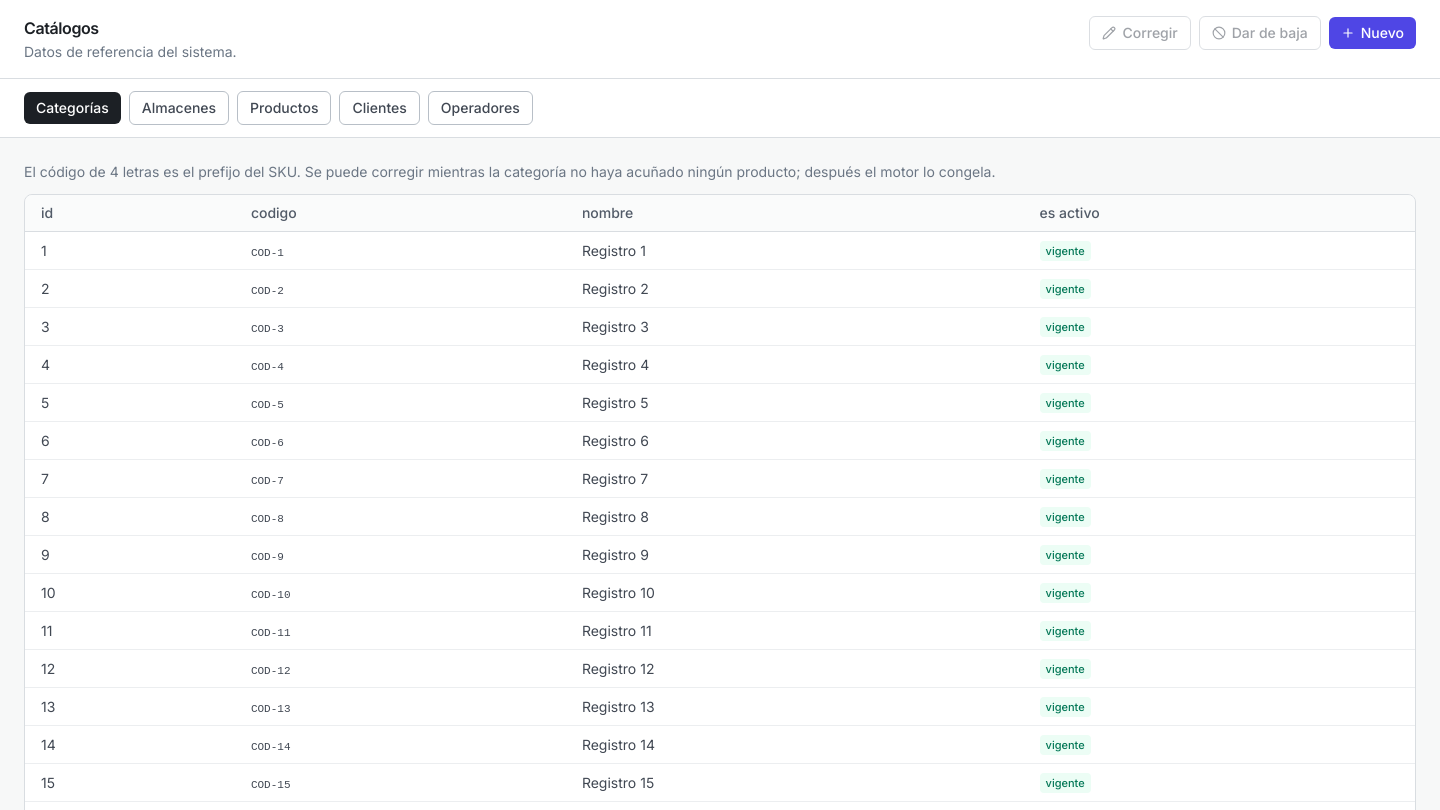
it: Catalogos - corregir un registro › el operador SISTEMA si puede tocar el rol
Click the button "Operadores" at point(480, 108), box [428,91,533,125]
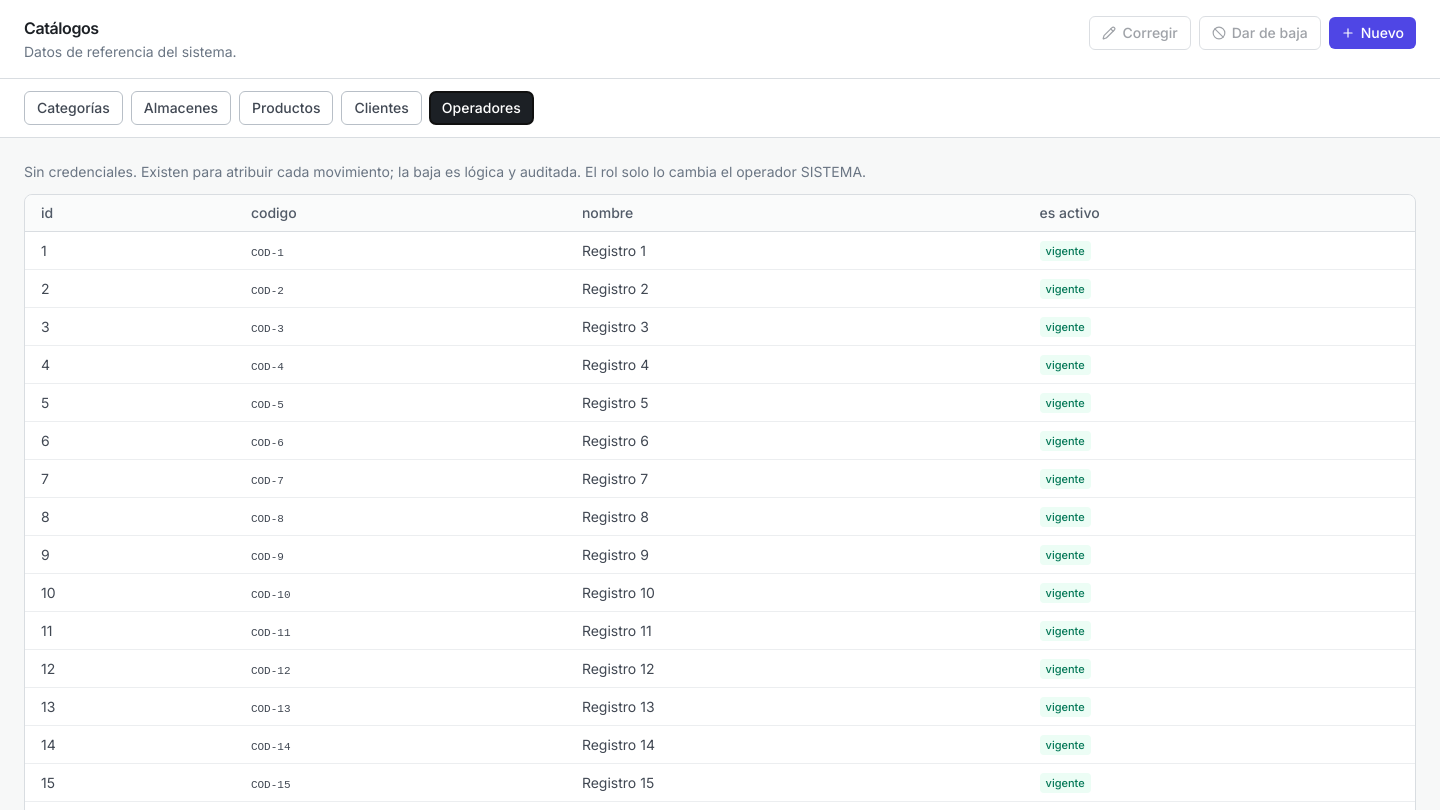
Click the text "Registro 1" at point(614, 250), box [566,232,1024,270]
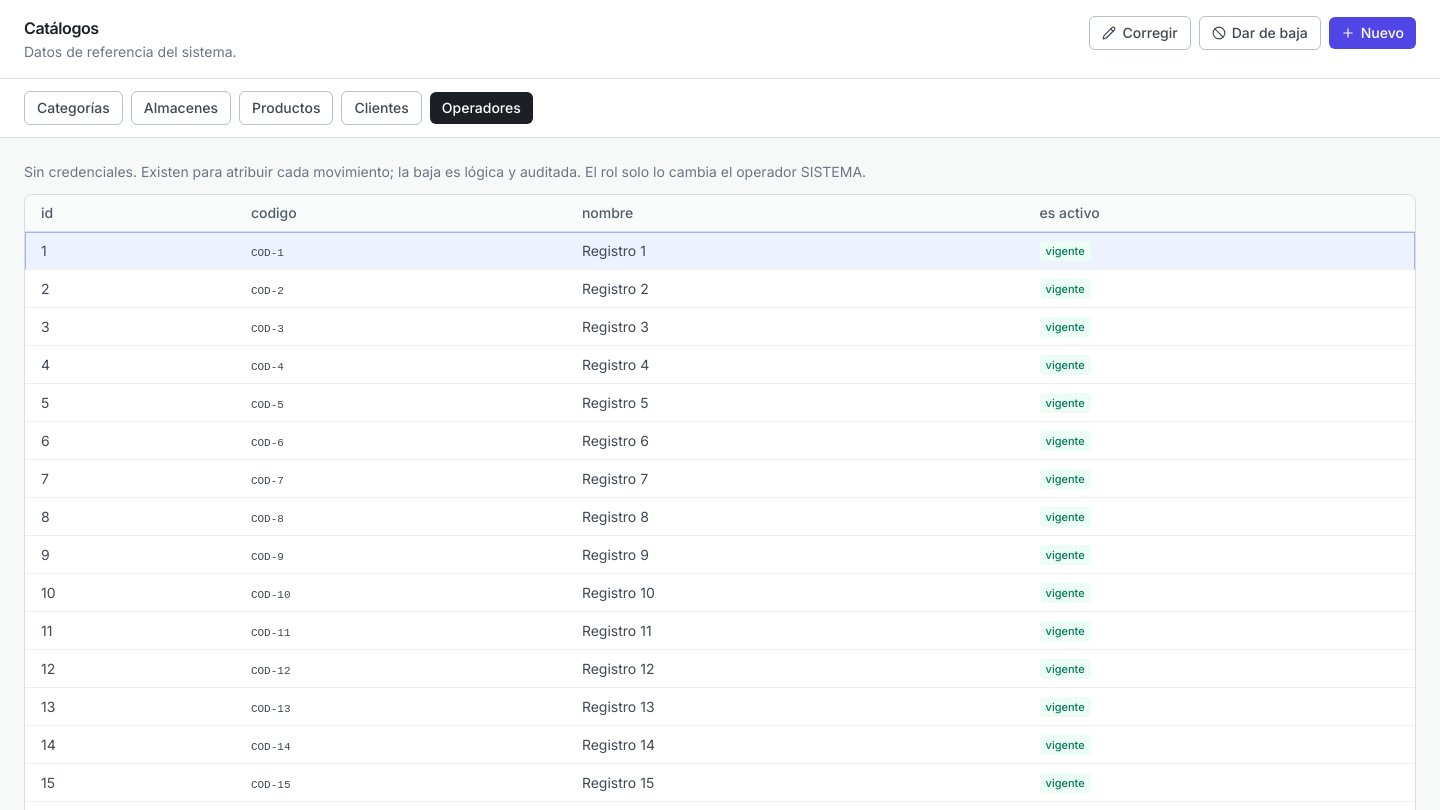
Click the button "Corregir" at point(1140, 33), box [1089,16,1191,50]
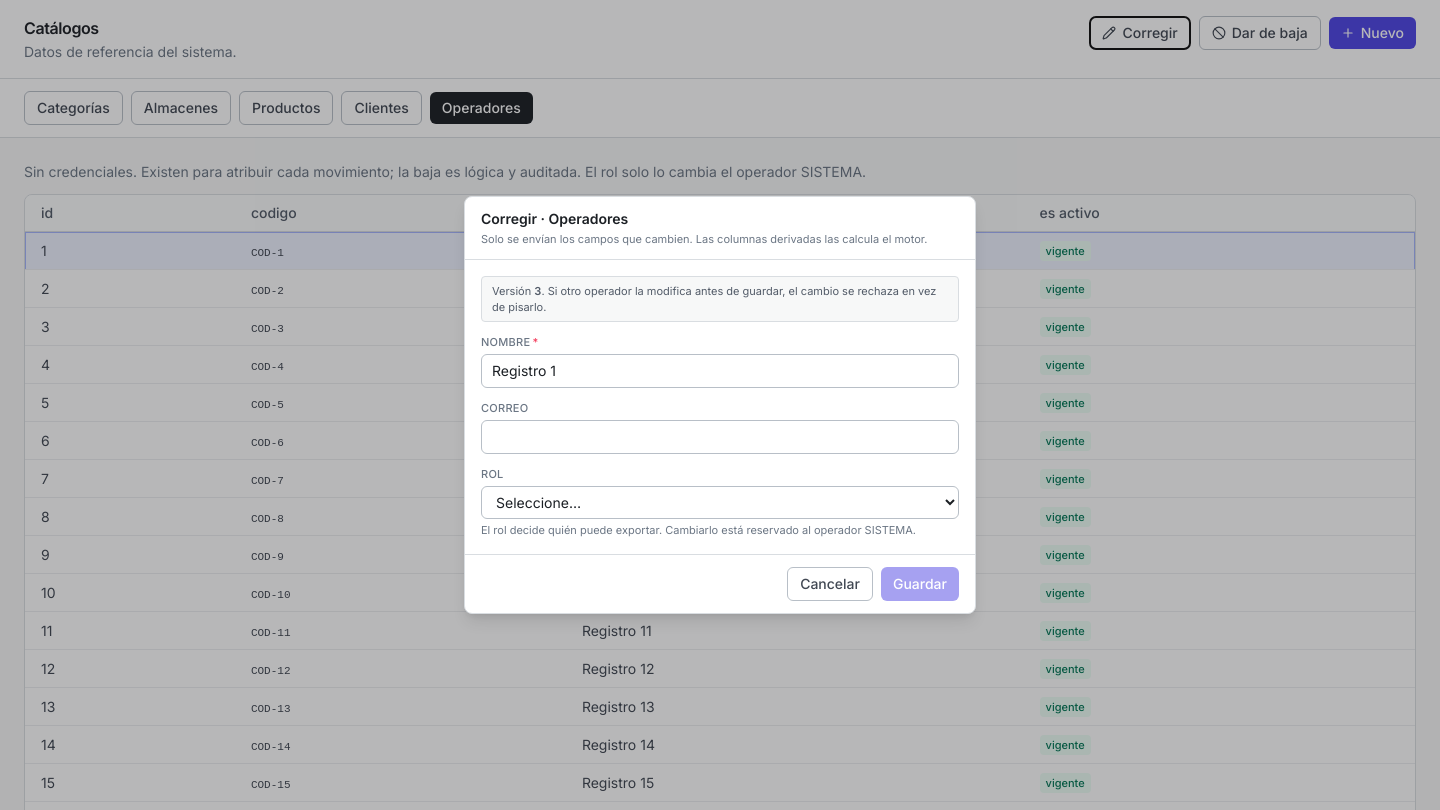
Result: the dropdown labelled "Rol" is enabled at [481,486,959,519]
